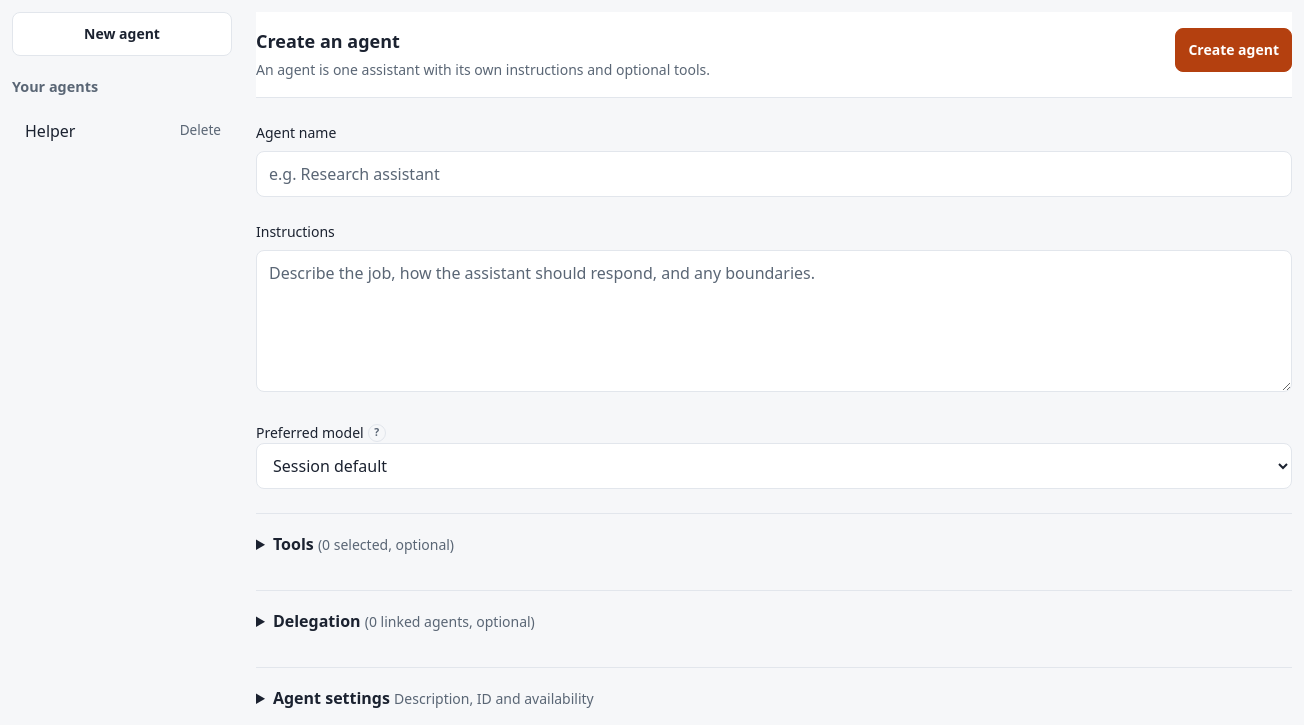
Test: AgentBuilder › explains what a built-in tool does, when to use it, and its risk level
Step 1. Click the heading "Tools (0 selected, optional)" → (363, 544), box [273,533,454,555]
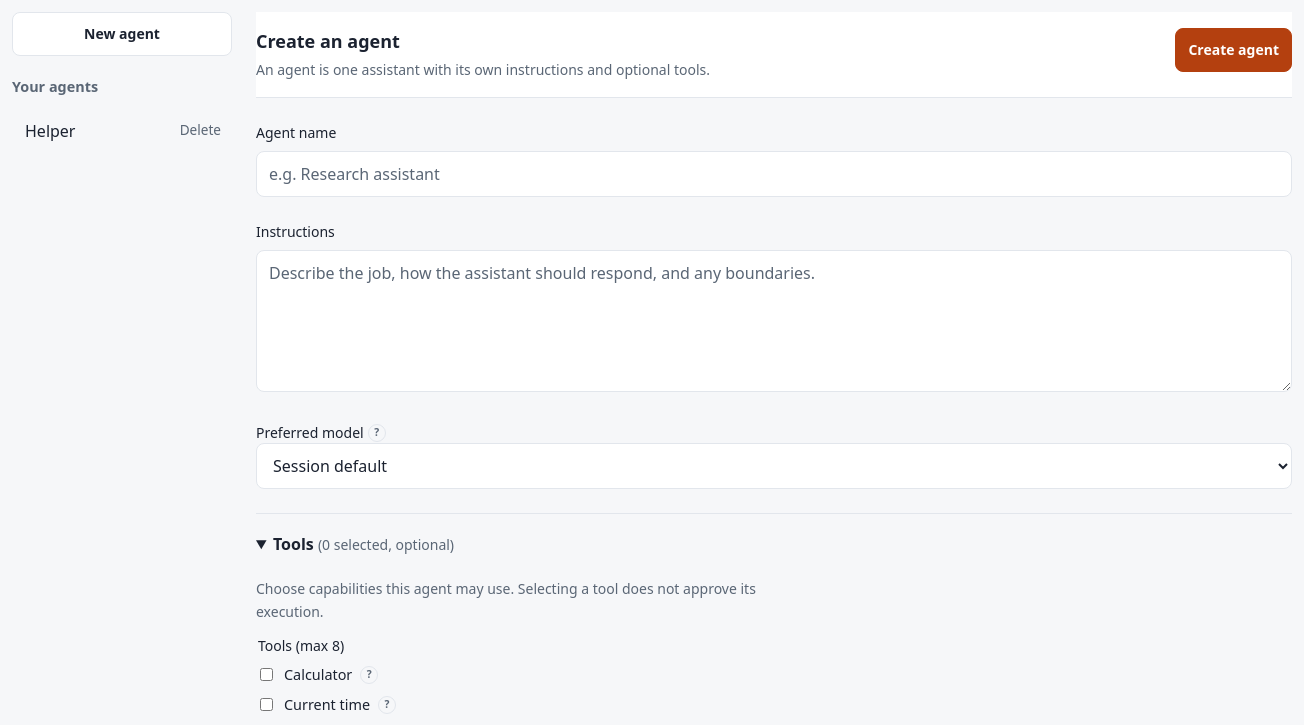
Now the checkbox labelled "Calculator" is not checked, box [260,668,273,682]
Step 2. Click the button named "Help: Calculator" → (369, 675), box [360,666,378,684]
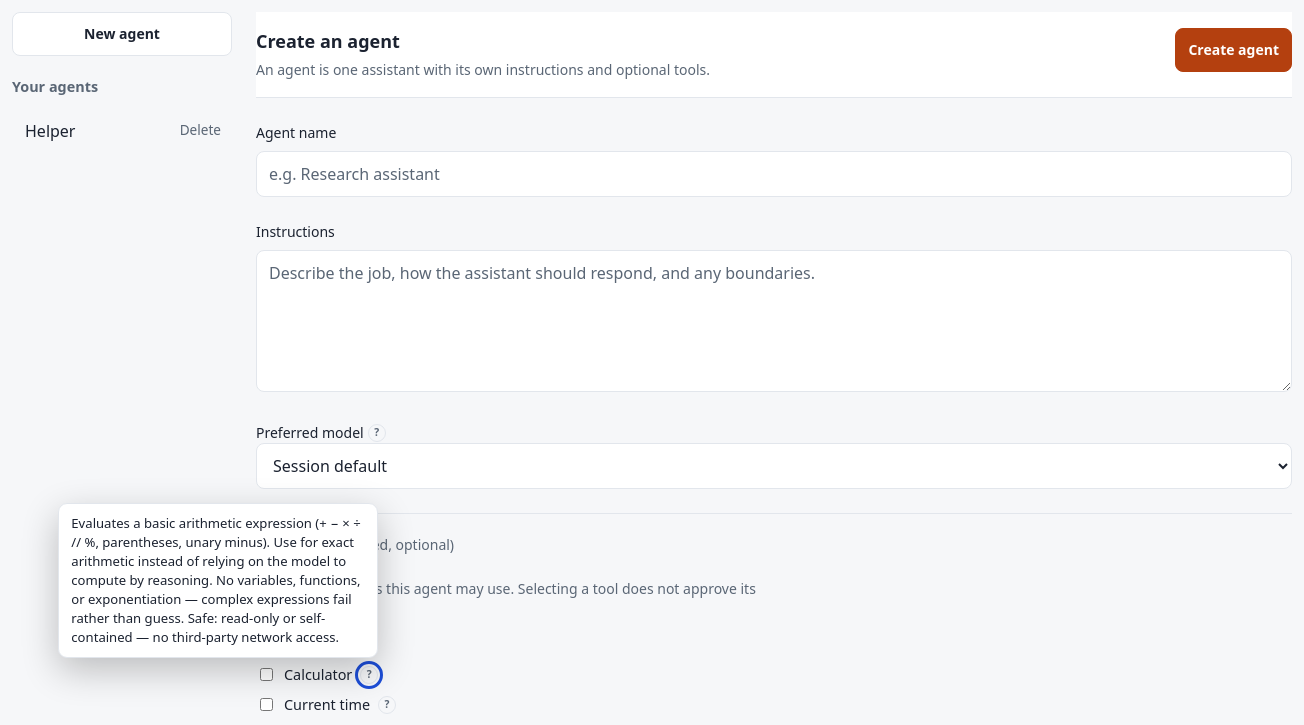
Now the checkbox labelled "Calculator" is not checked, box [260,668,273,682]
Now the tooltip shows "arithmetic", box [71,514,361,551]
Now the tooltip shows "Safe:", box [71,609,339,646]
